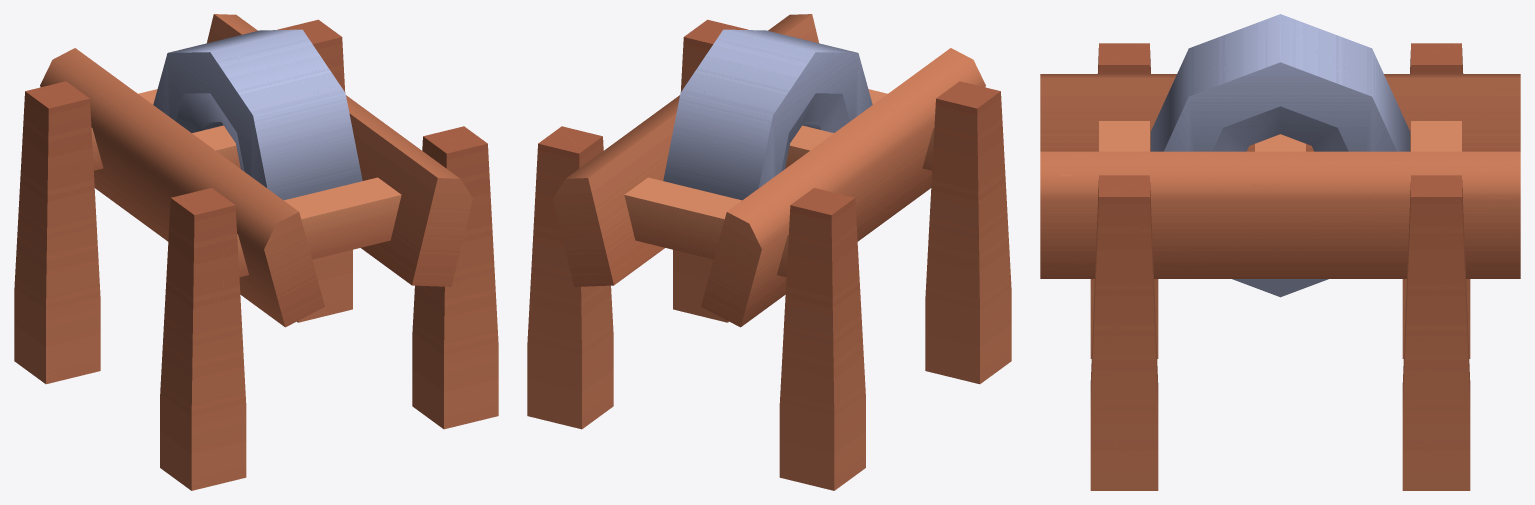
File: workbench-grind.glb
3 renders of one model, left to right at view 1: azimuth 30°, elevation 25°; view 2: azimuth 150°, elevation 25°; view 3: azimuth 270°, elevation 25°, orthographic. The views are drawn at different scales.
Parts seen in each view (by area): view 1: workbench-grind, workbench-grind.001; view 2: workbench-grind, workbench-grind.001; view 3: workbench-grind, workbench-grind.001.
Boxes of the visible parts, box(x1,y1,x2,y2) form: workbench-grind: box(14, 14, 498, 490); workbench-grind.001: box(153, 29, 362, 200); workbench-grind: box(527, 14, 1011, 490); workbench-grind.001: box(663, 29, 872, 200); workbench-grind: box(1040, 43, 1520, 490); workbench-grind.001: box(1150, 14, 1410, 297).
Size of the model in its own units: 1.31 by 1.42 by 1.66.
1 material, 1 textured.
